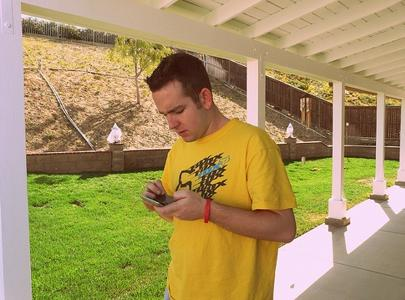person: (143, 53, 298, 300)
